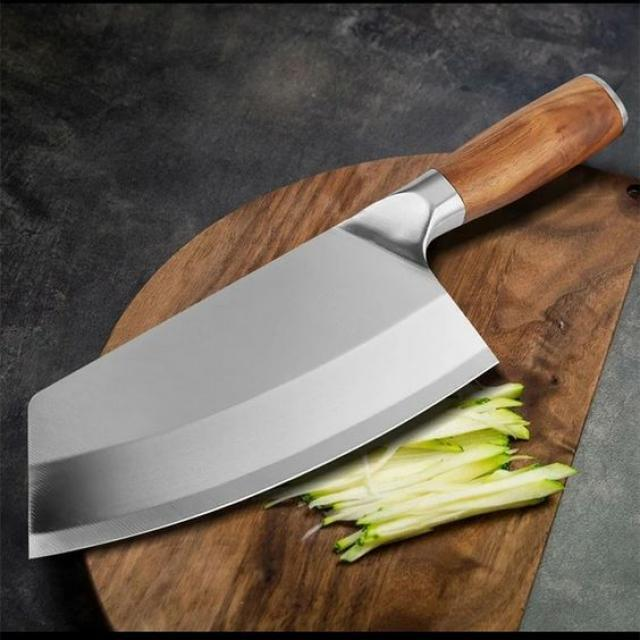cleaver: (22, 71, 624, 566)
